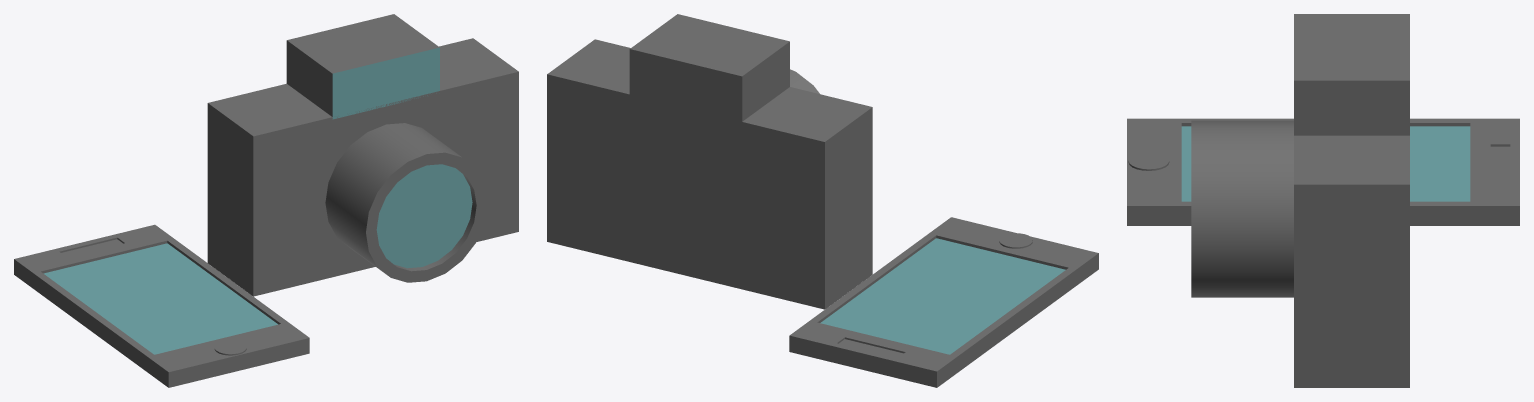
The model's file is Camera and Phone.fbx.
The picture shows the model from 3 angles, left to right: view 1: azimuth 30°, elevation 25°; view 2: azimuth 150°, elevation 25°; view 3: azimuth 270°, elevation 25°; orthographic projection. The views are drawn at different scales.
Visible parts, largest first — view 1: pCylinder4, pCylinder3; view 2: pCylinder4, pCylinder3; view 3: pCylinder4, pCylinder3.
Part boxes in pixels (box(x1,y1,x2,y2)): pCylinder4: box(207, 14, 518, 296); pCylinder3: box(14, 224, 309, 387); pCylinder4: box(547, 14, 872, 309); pCylinder3: box(789, 217, 1098, 387); pCylinder4: box(1191, 14, 1409, 387); pCylinder3: box(1127, 118, 1519, 225).
Bounding box in the file's own units: 23.36 × 11.28 × 15.05.
